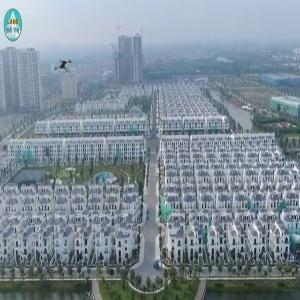drone: (46, 49, 83, 86)
